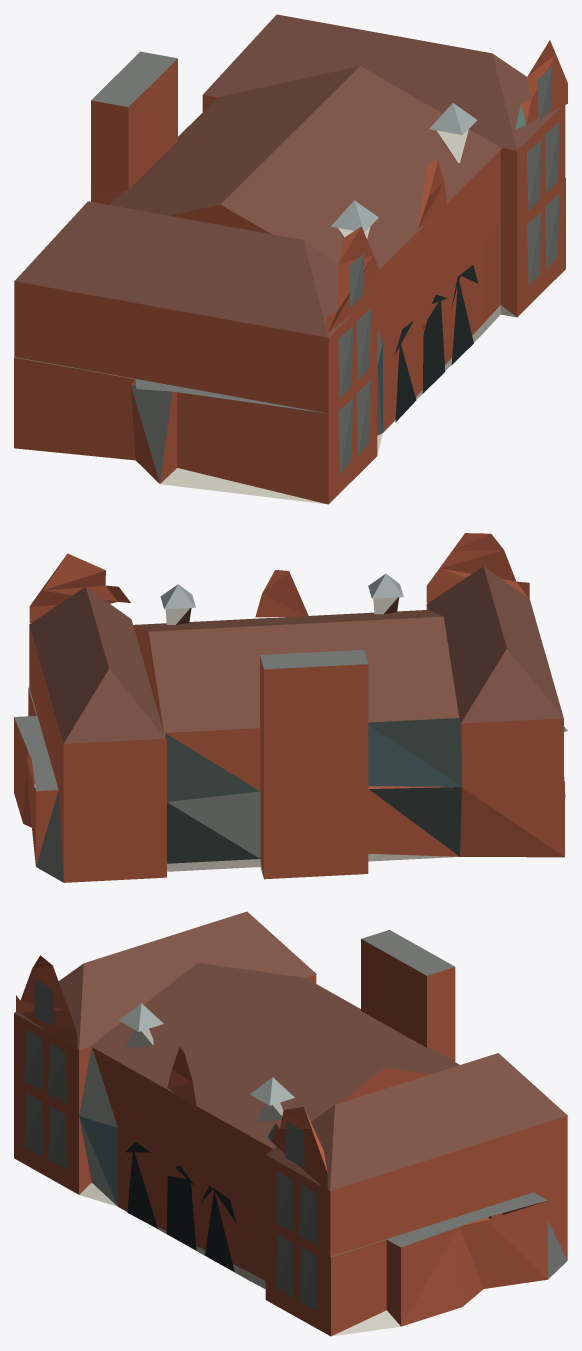
Rendered from fire-station-dirk.lod2.glb.
3 renders of one model, top to bottom at view 1: azimuth 30°, elevation 25°; view 2: azimuth 150°, elevation 25°; view 3: azimuth 270°, elevation 25°, orthographic. The views are drawn at different scales.
Visible parts, largest first — view 1: lod2; view 2: lod2; view 3: lod2.
Boxes of the visible parts, left/top/right/bottom form: lod2: left=14, top=14, right=567, bottom=504; lod2: left=14, top=533, right=567, bottom=882; lod2: left=14, top=911, right=567, bottom=1336.
Bounding box in the file's own units: 38.67 × 15.55 × 35.62.
